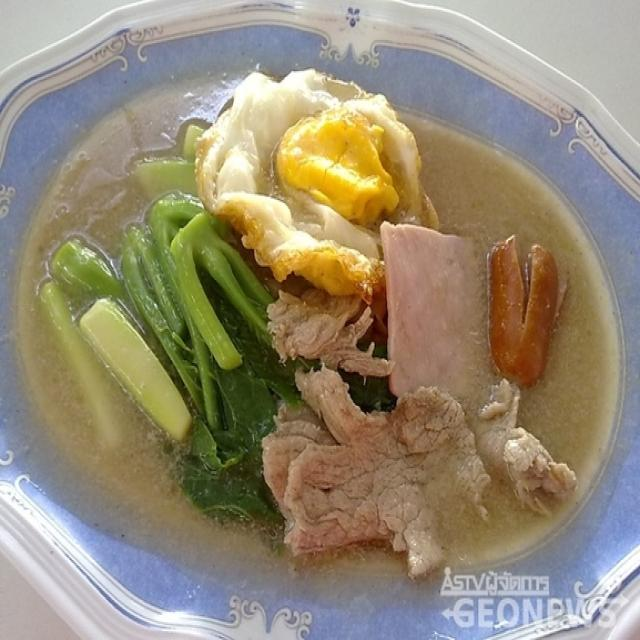面条主食: (28, 47, 626, 594)
